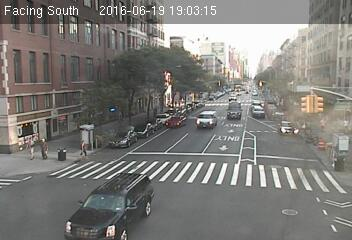neg: (300, 118, 320, 145), (332, 146, 350, 171), (92, 122, 110, 145), (287, 111, 303, 132), (113, 103, 128, 123), (135, 121, 149, 139)
pos: (17, 132, 39, 161), (33, 134, 54, 163), (315, 114, 332, 137), (75, 137, 91, 159)
